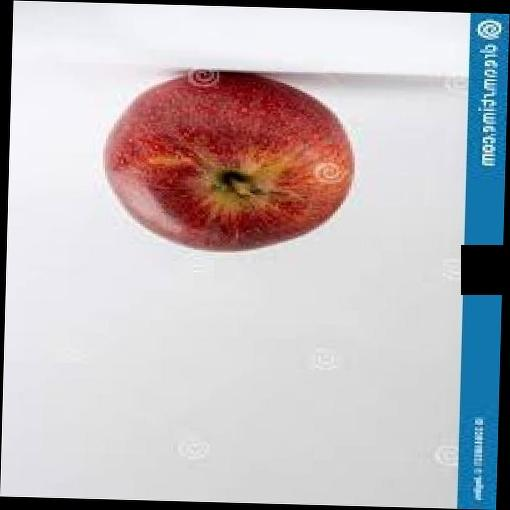red apple: (97, 71, 361, 257)
